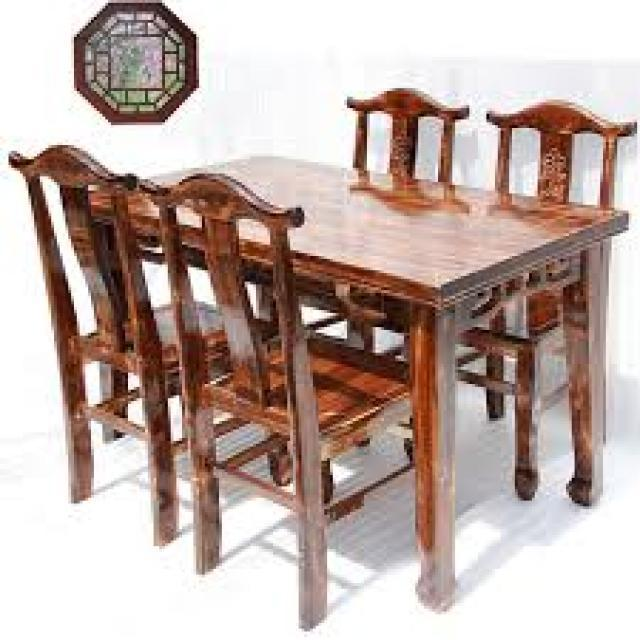table: (10, 68, 636, 634)
